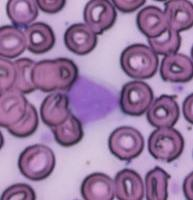L: (66, 73, 121, 127)
